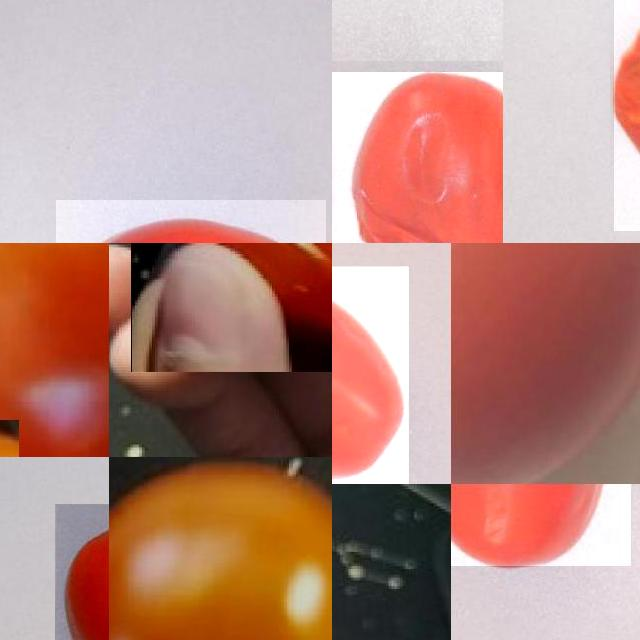Fresh Tomato: (451, 243, 640, 484), (109, 457, 332, 640), (0, 243, 109, 457), (55, 503, 109, 640)
Rotten Tomato: (332, 72, 503, 243), (131, 243, 332, 371), (332, 266, 408, 484), (451, 484, 630, 566)
